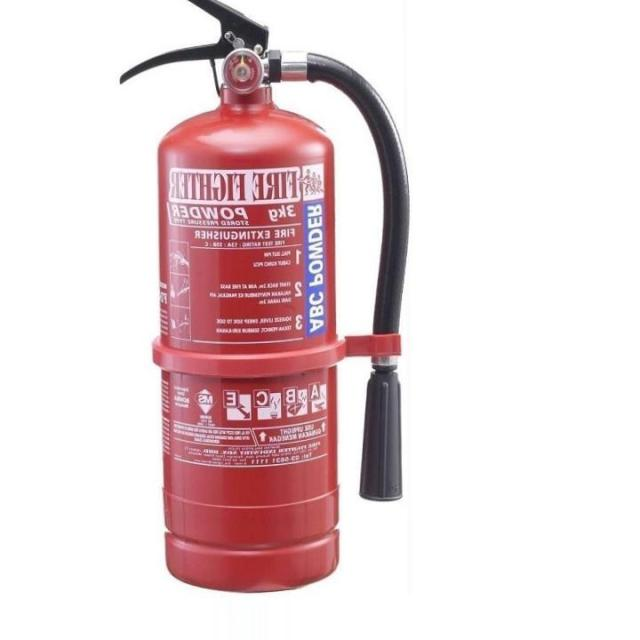fire_extinguisher: (119, 2, 408, 594)
